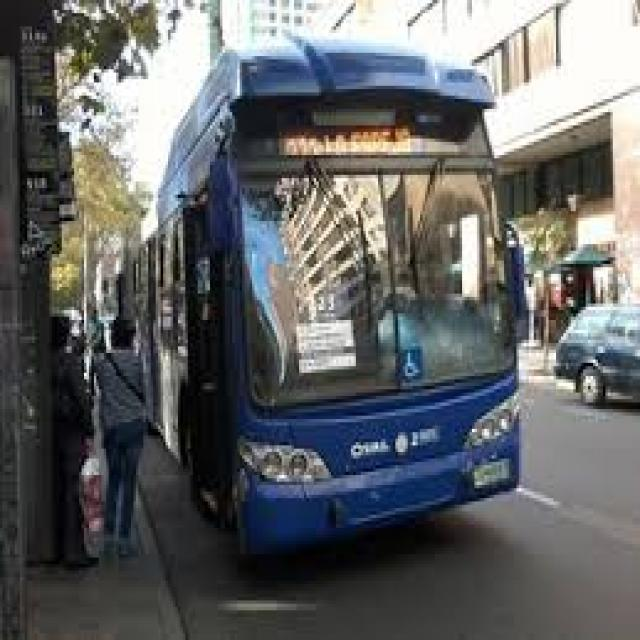AB: (116, 30, 541, 564)
